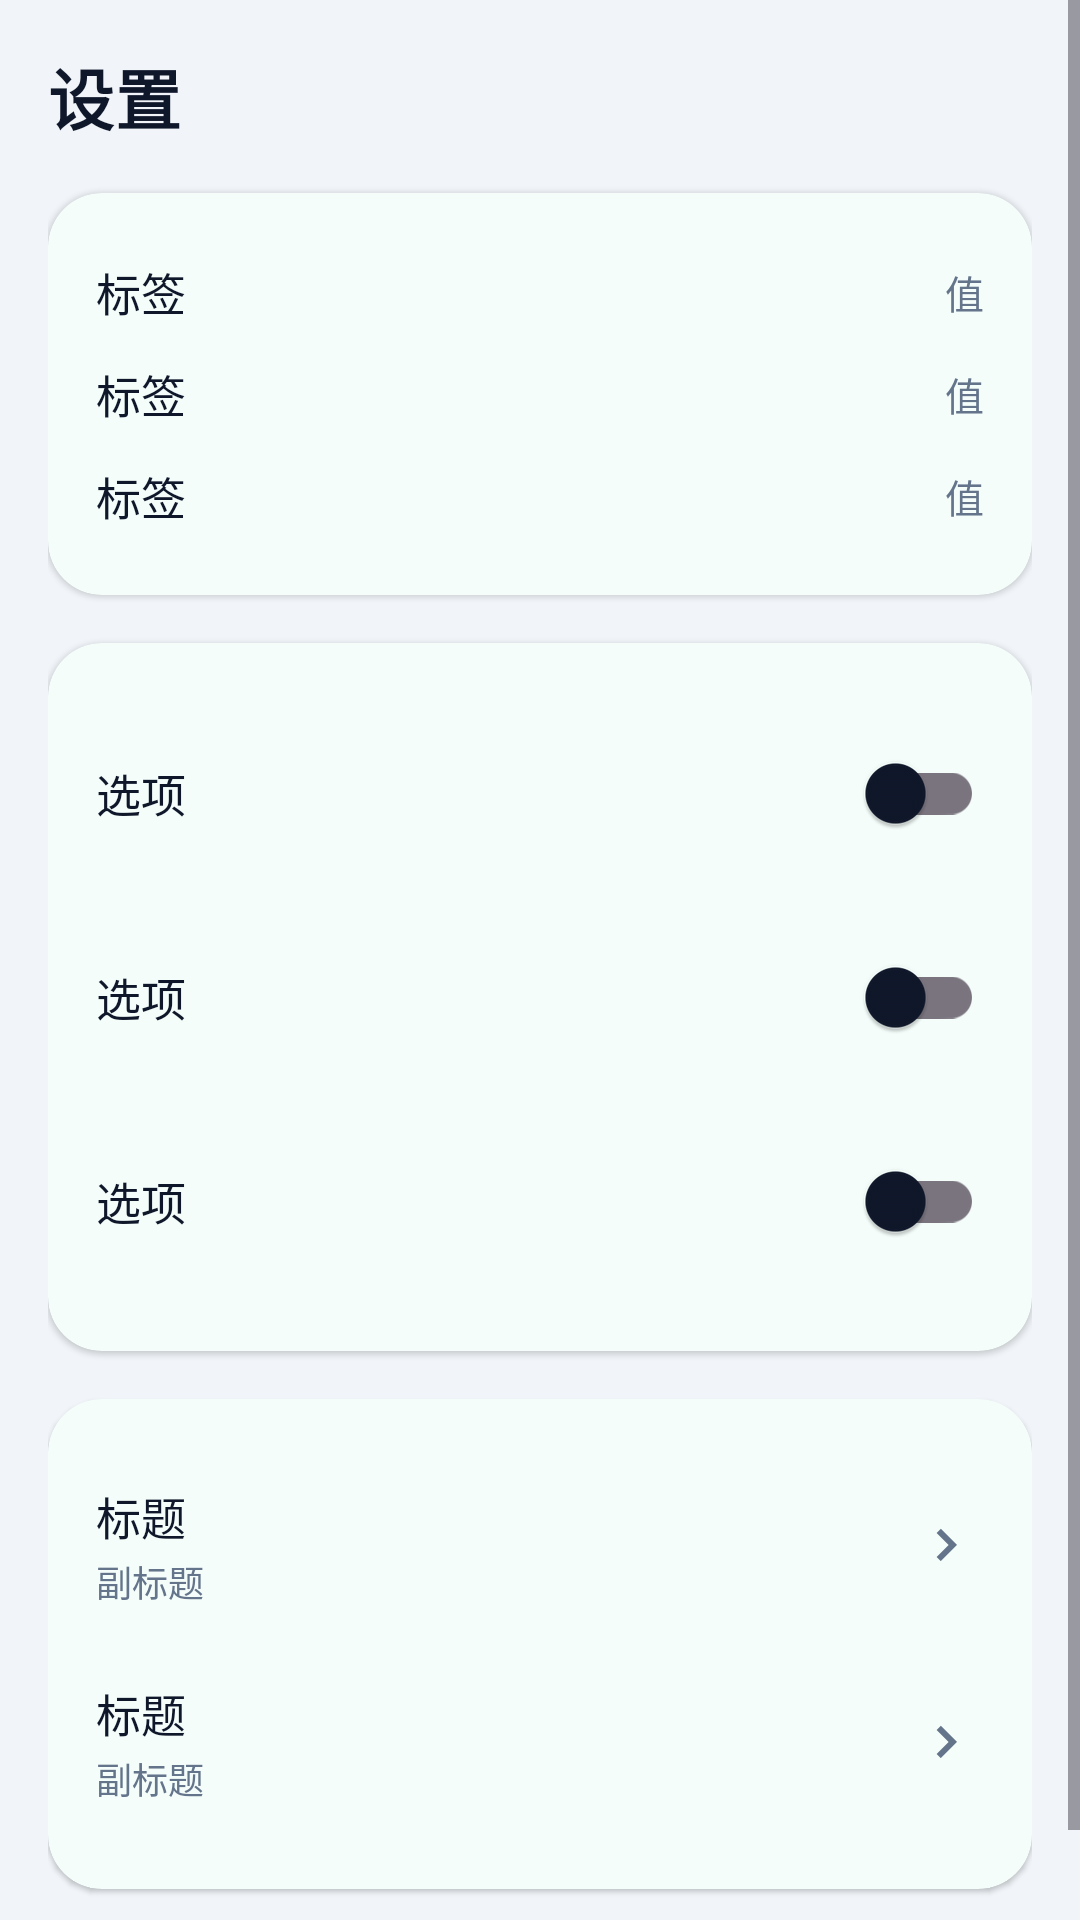

Icons on this 1080w x 1920h Android screen, each with the point to tap as point (x, y):
chevron: point (947, 1545), point (947, 1742)
